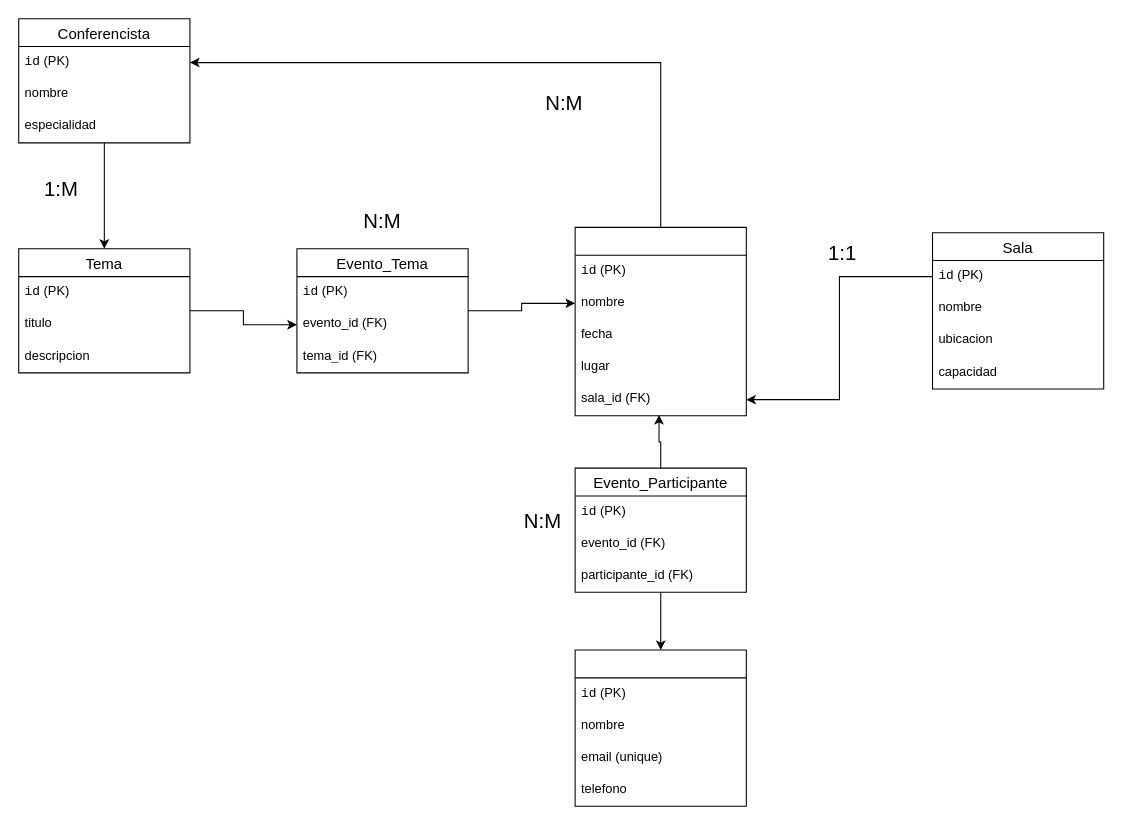
This 1122x828 diagram has some shape labels left out. Here are the shapes that lost their labels. From the top down, the box of each, then its label:
(574, 226, 746, 416): Evento
(574, 649, 746, 806): Participante
